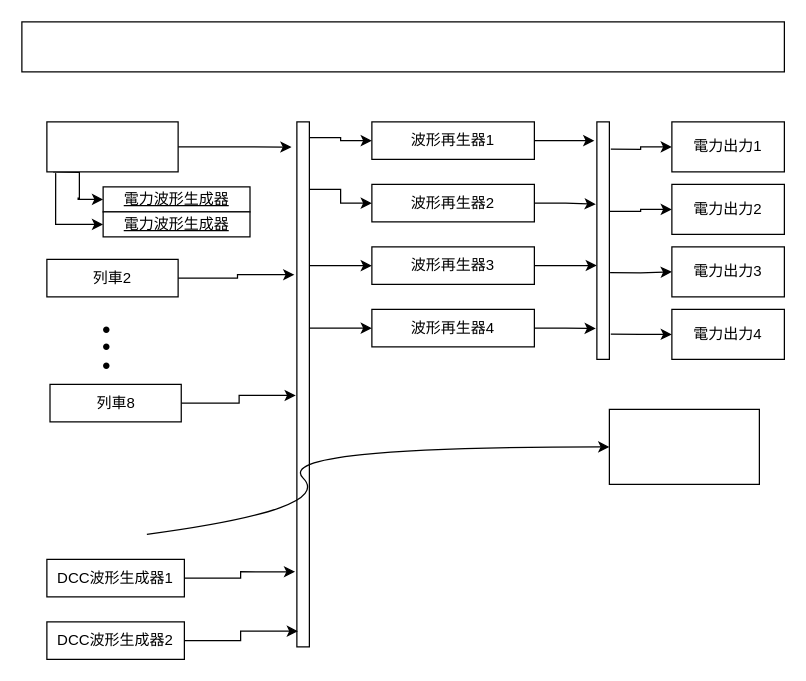
This 806x681 diagram has some shape labels left out. Each missing label, with the centre of its shape:
列車1: (112,146)
指令受信器: (402,46)
